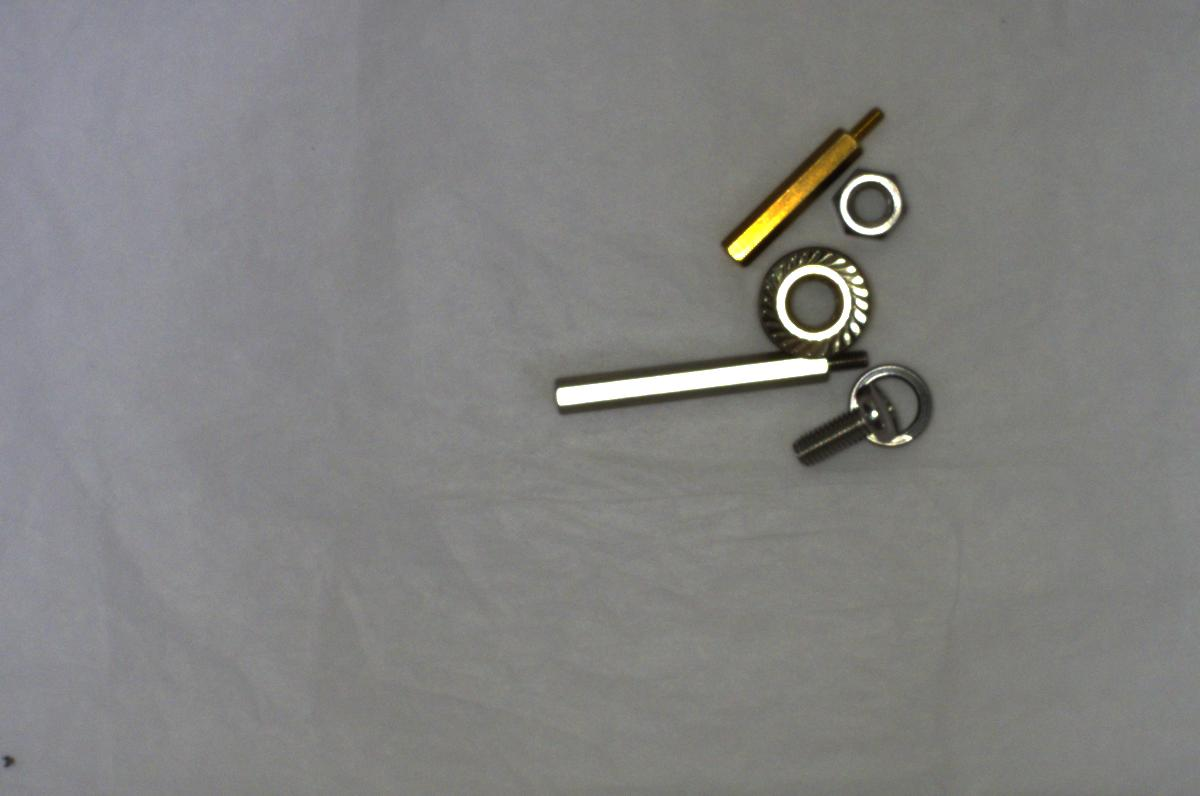Flange nut: (753, 239, 872, 360)
Hexagon nut: (833, 162, 907, 243)
Hexagon pillar: (717, 99, 882, 265)
Hexagonal steel column: (548, 346, 871, 426)
Round head screw: (785, 385, 899, 470)
Spring washer: (850, 365, 941, 450)
